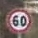limite 60: (4, 8, 32, 32)
